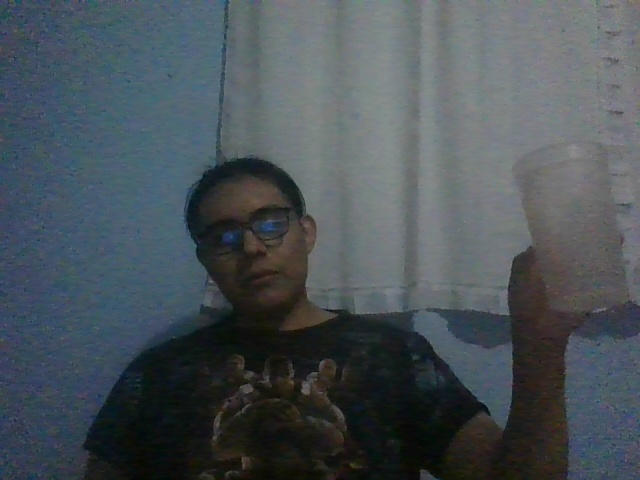vaso: (509, 139, 631, 315)
